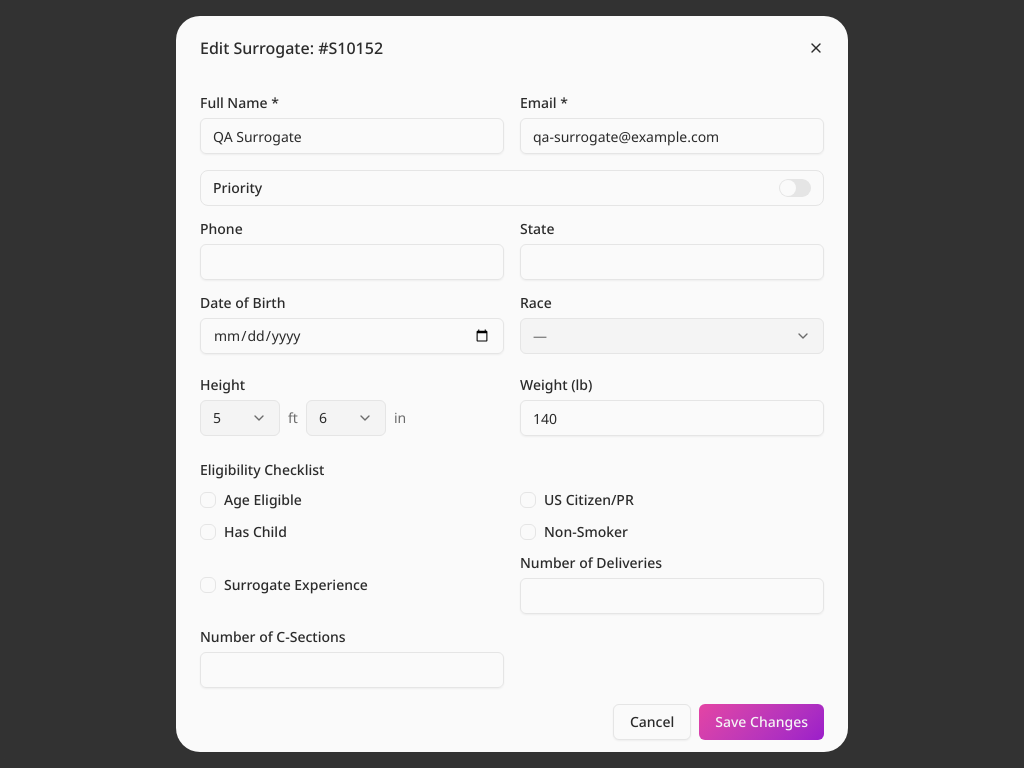
EditDialog › offers no ft or in placeholder rows in the height selects
This screenshot has width=1024, height=768.
Click the dropdown named "Height feet" at (240, 418), box [200, 400, 280, 436]
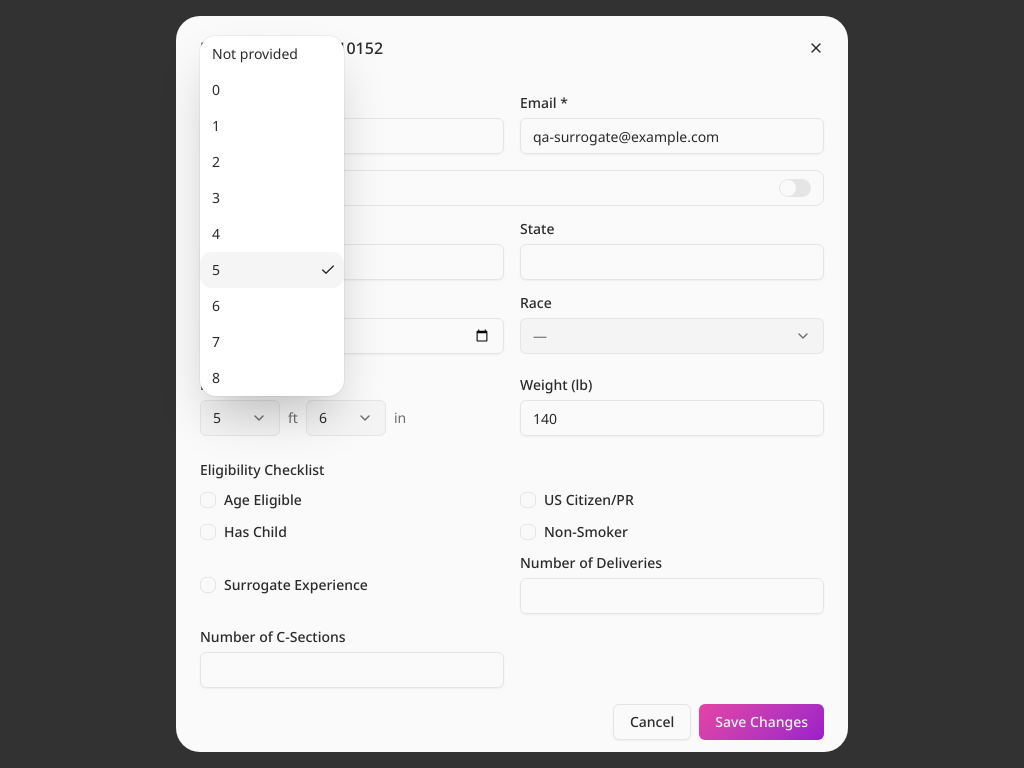
Expected: the option does not show "ft"
Now the text "Not provided" is shown, box [212, 44, 312, 64]
